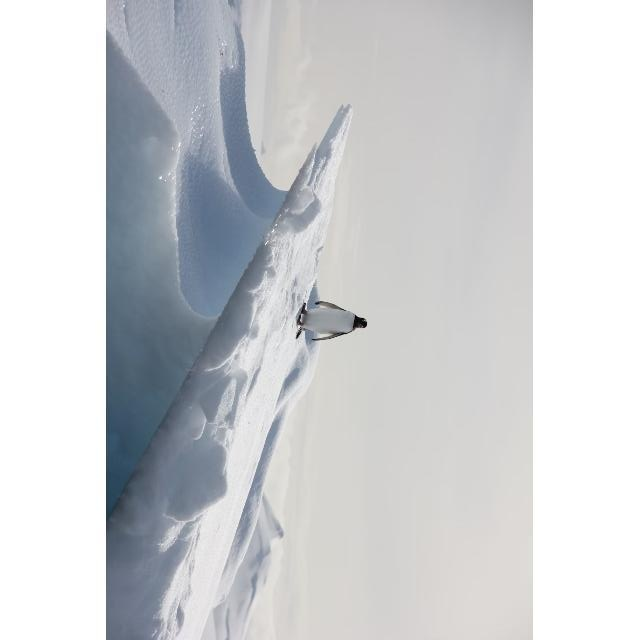penguin: (292, 300, 368, 343)
